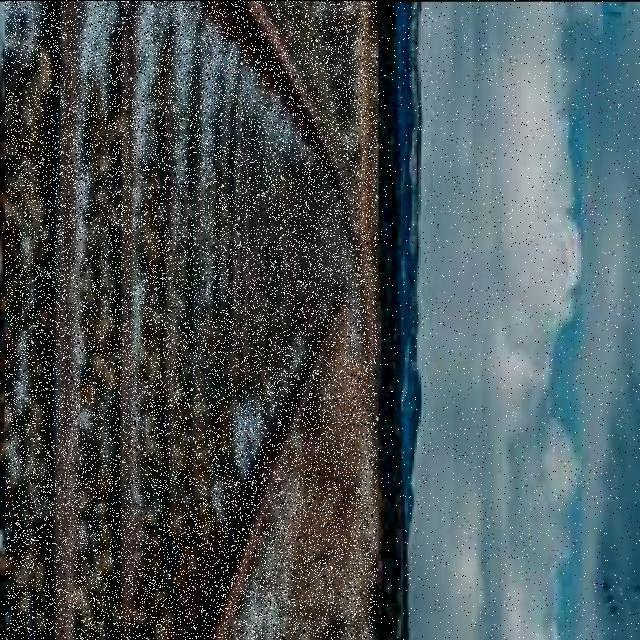rail: (6, 1, 377, 639)
